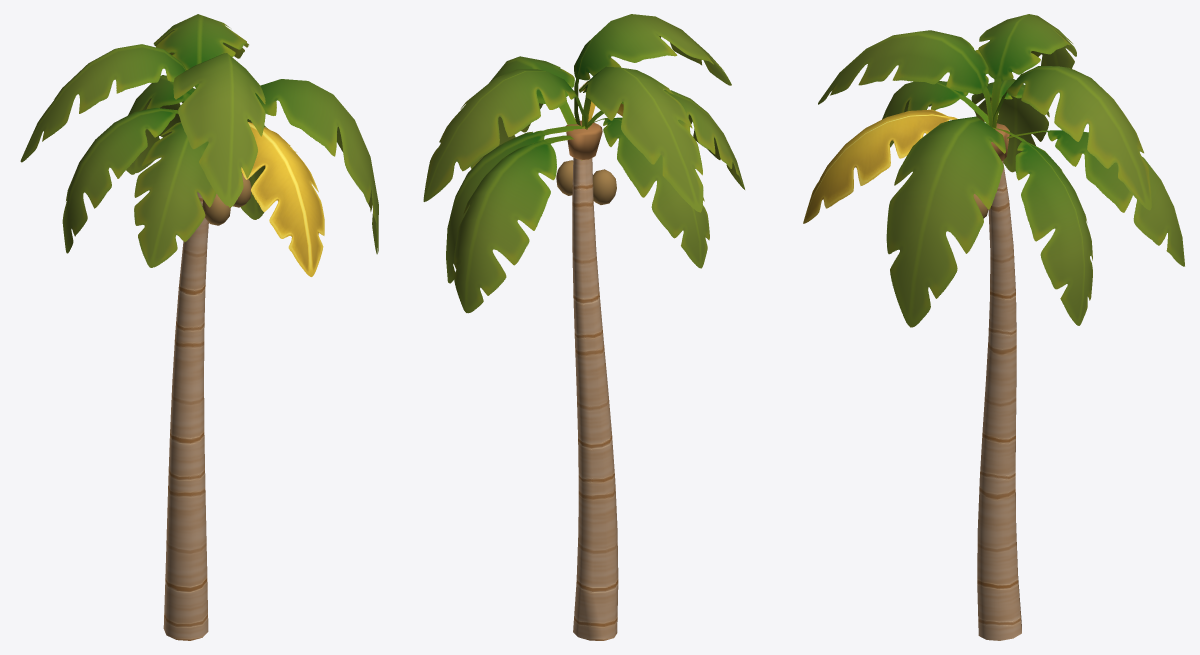
File: ride-a-fish-palm-straight-refined-v7.glb
3 views of the same model, side by side, from view 1: azimuth 30°, elevation 25°; view 2: azimuth 150°, elevation 25°; view 3: azimuth 270°, elevation 25° (orthographic). The views are drawn at different scales.
Visible parts, largest first — view 1: Ride_A_Fish_Refined_Straight; view 2: Ride_A_Fish_Refined_Straight; view 3: Ride_A_Fish_Refined_Straight.
Part boxes in pixels (left/top/right/bottom): Ride_A_Fish_Refined_Straight: left=20, top=14, right=378, bottom=640; Ride_A_Fish_Refined_Straight: left=423, top=14, right=744, bottom=640; Ride_A_Fish_Refined_Straight: left=803, top=14, right=1184, bottom=640.
Size of the model in its own units: 5.32 by 9.98 by 5.79.
4 materials, 3 textured.
